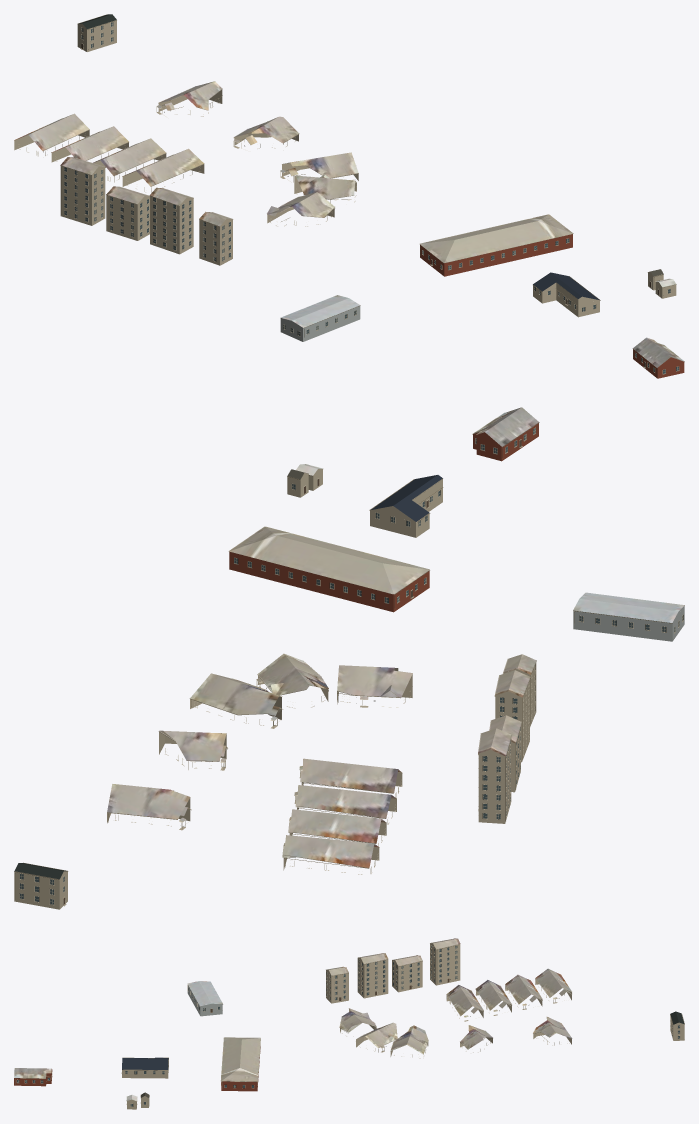
3 renders of one model, top to bottom at view 1: azimuth 30°, elevation 25°; view 2: azimuth 150°, elevation 25°; view 3: azimuth 270°, elevation 25°, orthographic. The views are drawn at different scales.
Parts seen in each view (by area): view 1: 0_13_599466606_0, 0_13_608383939_1, 0_13_638018820_2; view 2: 0_13_599466606_0, 0_13_608383939_1, 0_13_638018820_2; view 3: 0_13_599466606_0, 0_13_608383939_1, 0_13_638018820_2.
Boxes of the visible parts, left/top/right/bottom form: 0_13_599466606_0: left=14, top=14, right=684, bottom=378; 0_13_608383939_1: left=14, top=14, right=676, bottom=317; 0_13_638018820_2: left=280, top=306, right=360, bottom=341; 0_13_599466606_0: left=14, top=407, right=684, bottom=906; 0_13_608383939_1: left=14, top=469, right=536, bottom=909; 0_13_638018820_2: left=573, top=606, right=684, bottom=641; 0_13_599466606_0: left=14, top=938, right=684, bottom=1106; 0_13_608383939_1: left=122, top=943, right=684, bottom=1109; 0_13_638018820_2: left=187, top=985, right=222, bottom=1016.
Size of the model in its own units: 170 by 25.32 by 363.
Materials: 14 (1 with a texture image).
